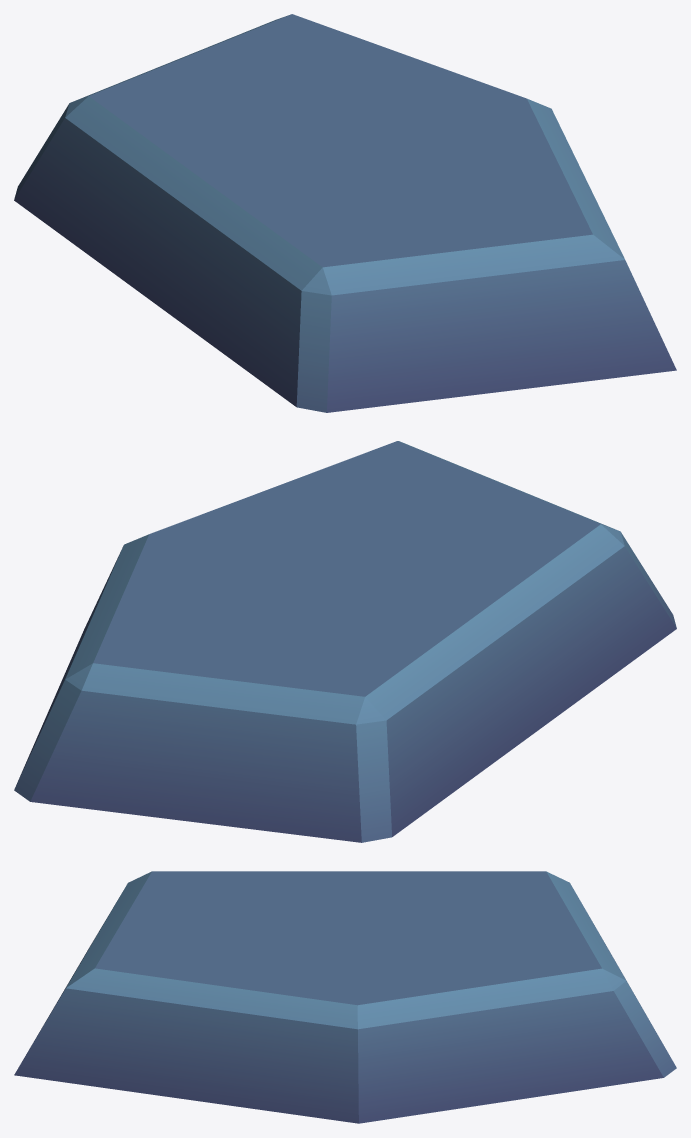
Rendered from Roadstones-3-2.fbx.
3 views of the same model, one above another, from view 1: azimuth 30°, elevation 25°; view 2: azimuth 150°, elevation 25°; view 3: azimuth 270°, elevation 25° (orthographic). The views are drawn at different scales.
Visible parts, largest first — view 1: Roadstones-3-2; view 2: Roadstones-3-2; view 3: Roadstones-3-2.
Part boxes in pixels (bbox=[...]): Roadstones-3-2: bbox=[14, 14, 676, 412]; Roadstones-3-2: bbox=[14, 441, 676, 842]; Roadstones-3-2: bbox=[14, 871, 676, 1123].
Bounding box in the file's own units: 75.88 × 18.02 × 117.
